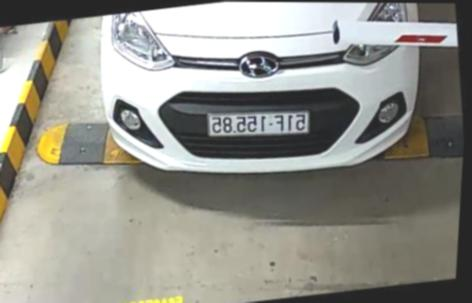License_Plate: (205, 103, 312, 147)
